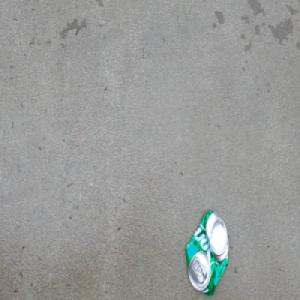SodaCan: (184, 209, 231, 298)
